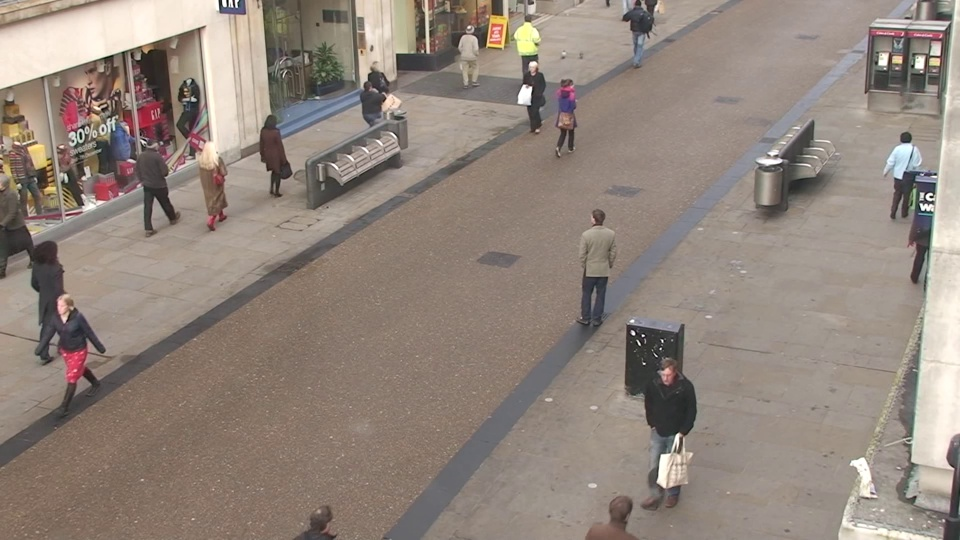pedestrian: (42, 288, 105, 427), (640, 353, 694, 510), (25, 236, 84, 361), (880, 127, 925, 229), (580, 203, 618, 323), (133, 133, 175, 230), (192, 137, 232, 237), (589, 482, 650, 540), (292, 490, 360, 540), (256, 111, 291, 203), (355, 77, 385, 161), (552, 74, 580, 158), (362, 60, 391, 139), (520, 58, 548, 138), (458, 22, 483, 92), (516, 12, 539, 79)
